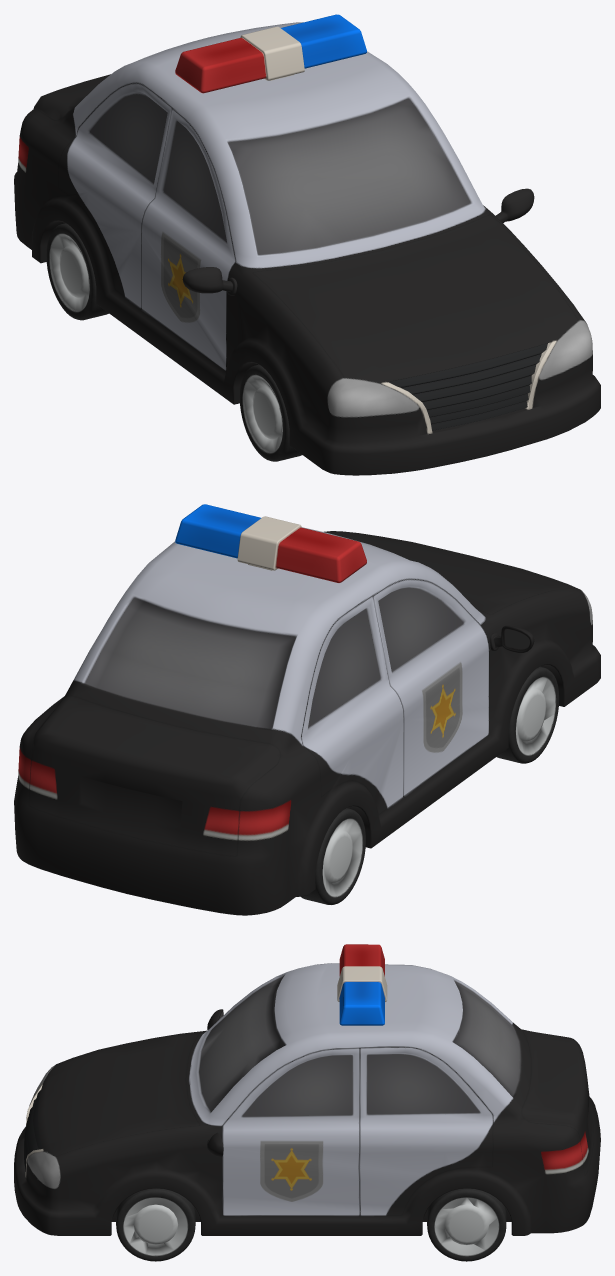
File: police-car.glb
The picture shows the model from 3 angles, top to bottom: view 1: azimuth 30°, elevation 25°; view 2: azimuth 150°, elevation 25°; view 3: azimuth 270°, elevation 25°; orthographic projection. The views are drawn at different scales.
Parts seen in each view (by area): view 1: icon_policecar_base_stylized_lod0; view 2: icon_policecar_base_stylized_lod0; view 3: icon_policecar_base_stylized_lod0.
Part boxes in pixels (x1=…): icon_policecar_base_stylized_lod0: x1=14, y1=14, x2=600, y2=475; icon_policecar_base_stylized_lod0: x1=14, y1=504, x2=600, y2=915; icon_policecar_base_stylized_lod0: x1=14, y1=944, x2=600, y2=1261.
Bounding box in the file's own units: 0.1222 × 0.0979 × 0.2209.
Materials: 1 (1 with a texture image).
